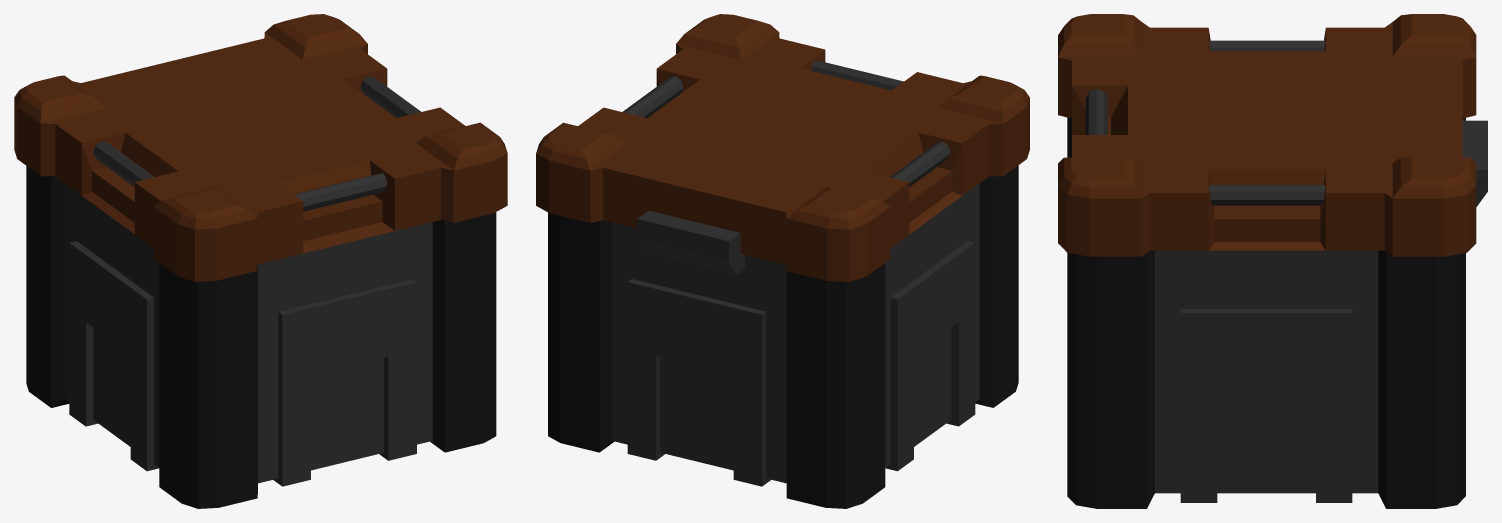
Rendered from Lootbox.obj.
3 views of the same model, side by side, from view 1: azimuth 30°, elevation 25°; view 2: azimuth 150°, elevation 25°; view 3: azimuth 270°, elevation 25° (orthographic). The views are drawn at different scales.
Visible parts, largest first — view 1: Lootbox_Base_Cube.017, Lootbox_Top_Cube.046; view 2: Lootbox_Base_Cube.017, Lootbox_Top_Cube.046; view 3: Lootbox_Base_Cube.017, Lootbox_Top_Cube.046.
Boxes of the visible parts, box(x1,y1,x2,y2) form: Lootbox_Base_Cube.017: box(26, 166, 496, 508); Lootbox_Top_Cube.046: box(14, 14, 507, 281); Lootbox_Base_Cube.017: box(548, 165, 1018, 508); Lootbox_Top_Cube.046: box(536, 14, 1029, 282); Lootbox_Base_Cube.017: box(1067, 117, 1465, 508); Lootbox_Top_Cube.046: box(1058, 14, 1487, 256).
Size of the model in its own units: 0.5919 by 0.5121 by 0.6081.
